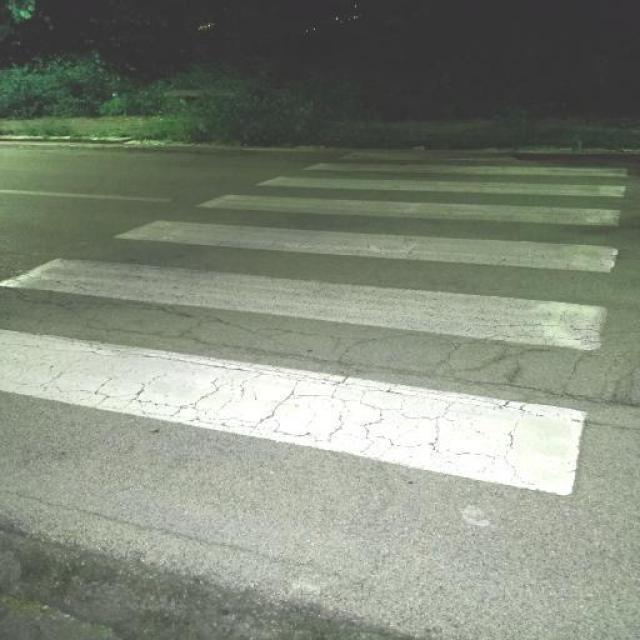crosswalk: (0, 148, 625, 508)
